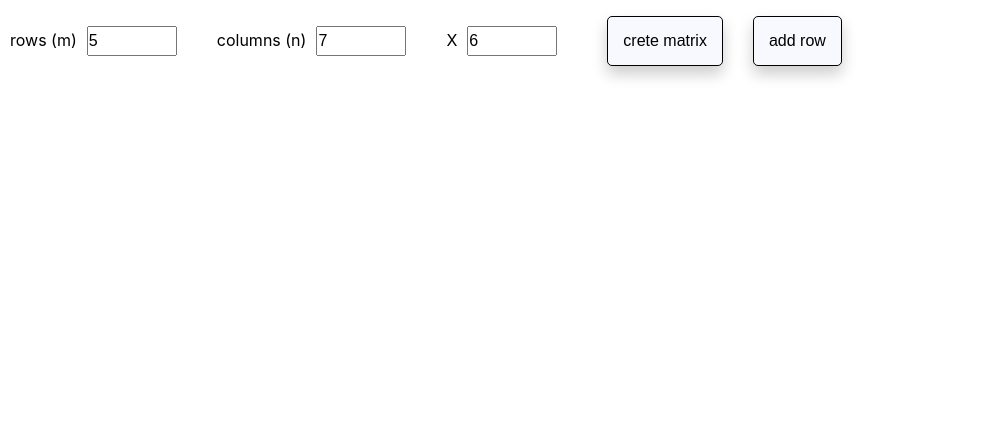
Context › adds row to table
Replace the text in the number field with test id "rows-input" with "2" at (132, 41), box [87,26,177,56]
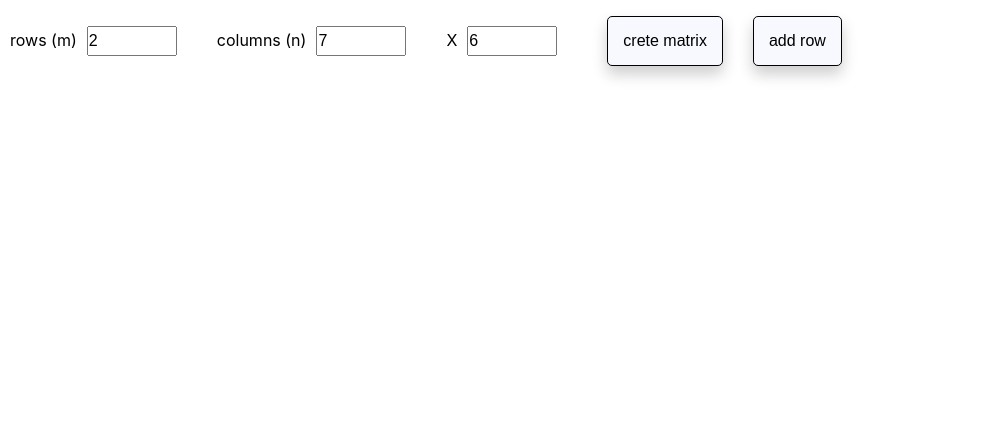
Click the button "crete matrix" at (665, 41), box [607,16,723,66]
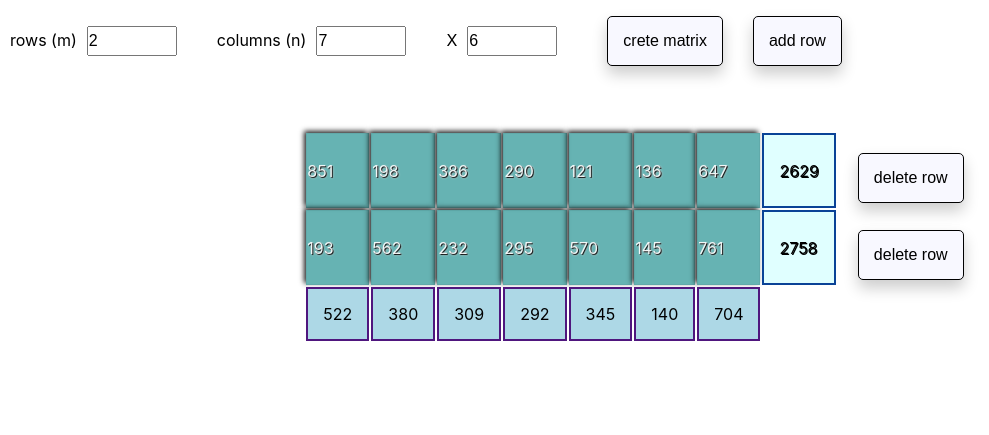
Click the button "add row" at (797, 41), box [753,16,842,66]
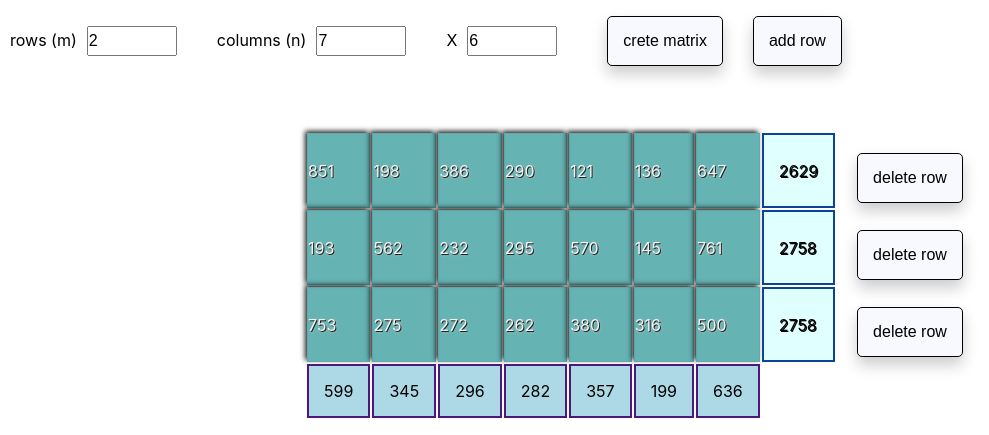
Result: the number of rows is 4 at [307,133,973,208]; [307,210,973,285]; [307,287,973,362]; [307,364,973,418]
